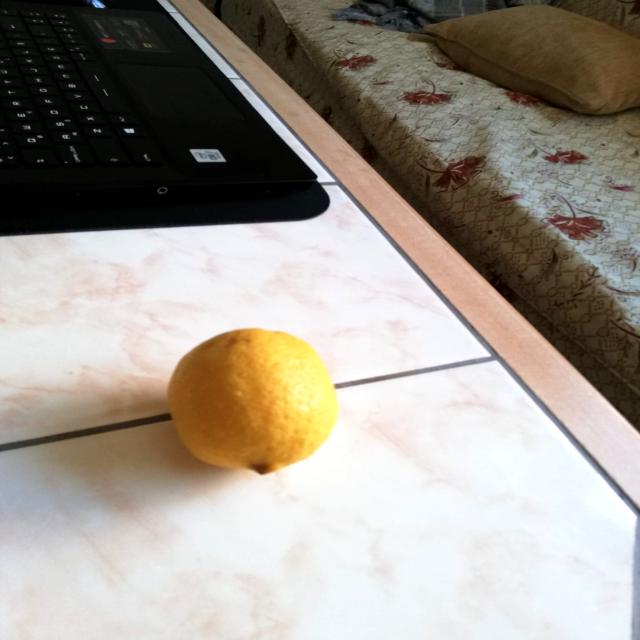lemon: (161, 322, 346, 481)
